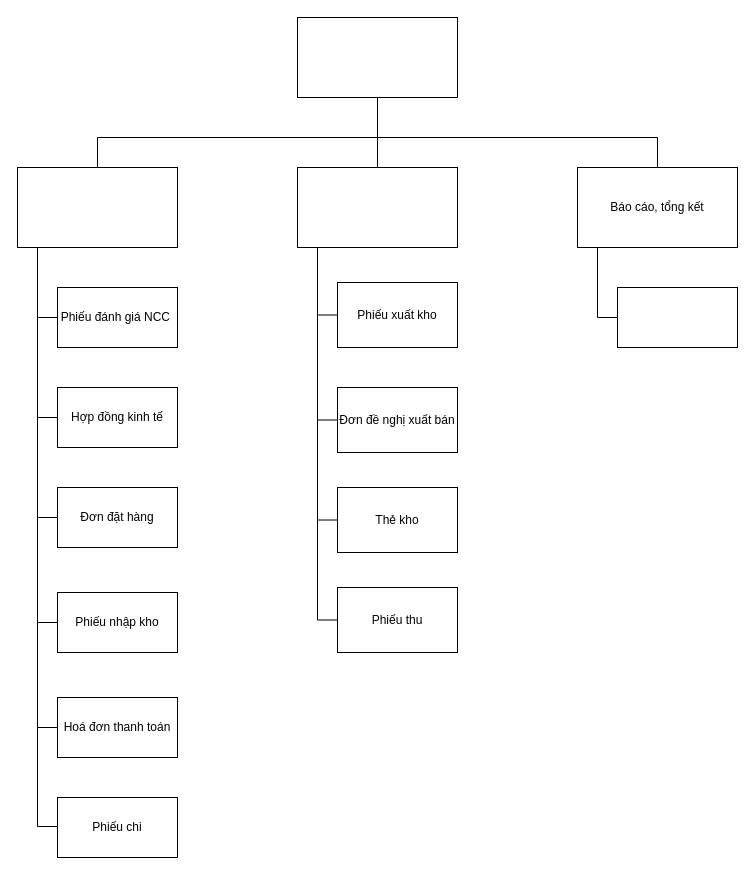
Some shapes in this 755 by 875 pixel diagram are drawn without their labels. Each missing label, with the centre of its shape:
Báo cáo: (x=677, y=317)
Hệ thống quản lí vật tư: (x=377, y=57)
Mua NVL về nhập kho: (x=97, y=207)
Xuất nguyên vật liệu: (x=377, y=207)
